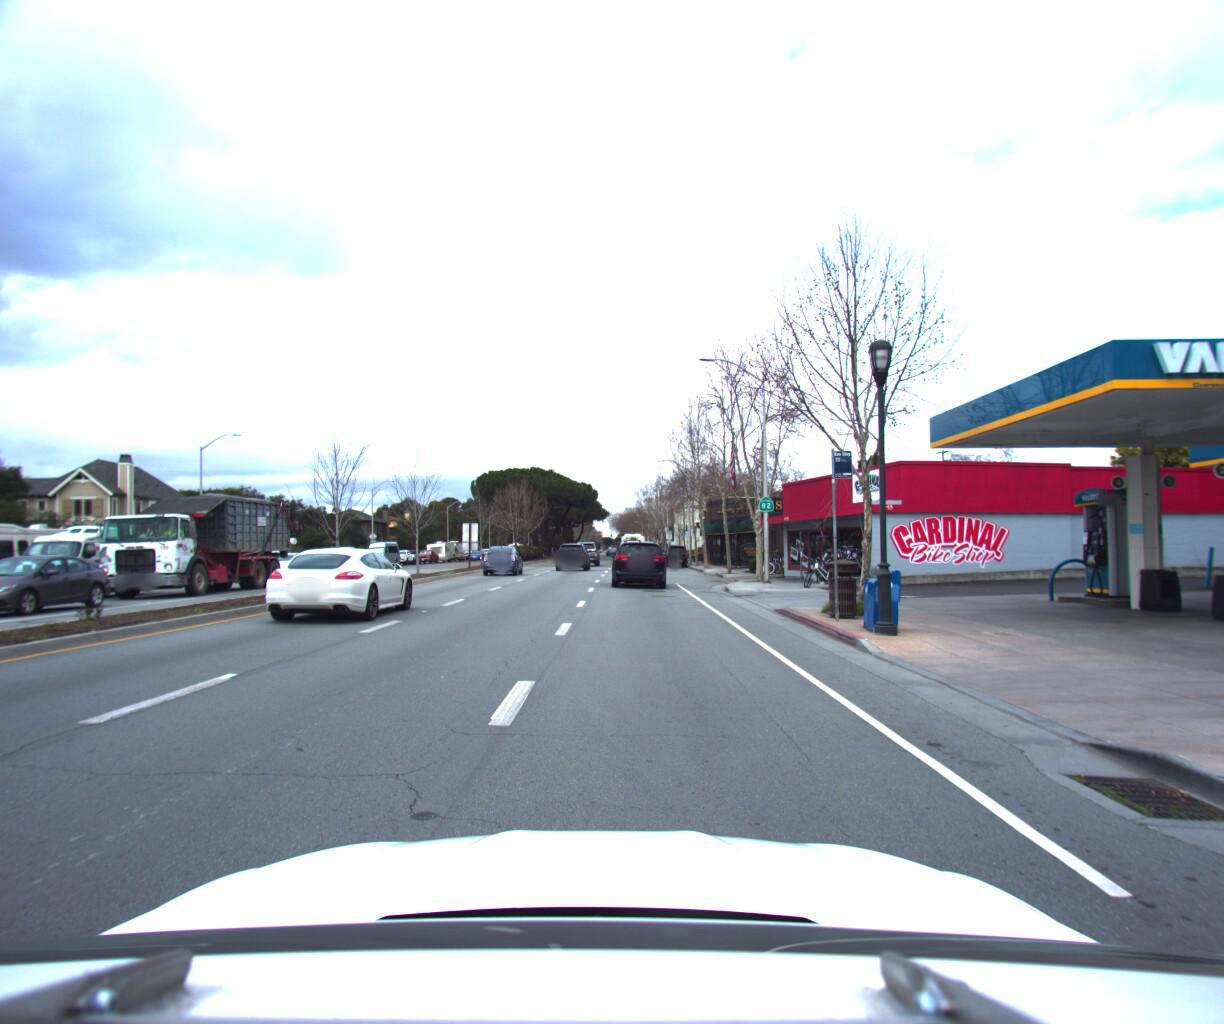bicycle: (801, 549, 848, 581), (806, 548, 852, 580)
car: (0, 516, 167, 602), (259, 537, 423, 621), (0, 547, 123, 617), (609, 529, 668, 583), (481, 537, 522, 571), (364, 531, 406, 561), (554, 532, 589, 563), (569, 542, 600, 569), (664, 536, 692, 560)
other_vehicle: (0, 503, 91, 603)
truck: (73, 470, 305, 595)
